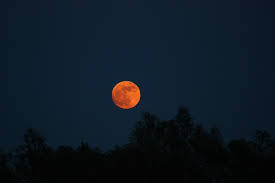moon: (109, 79, 141, 110)
